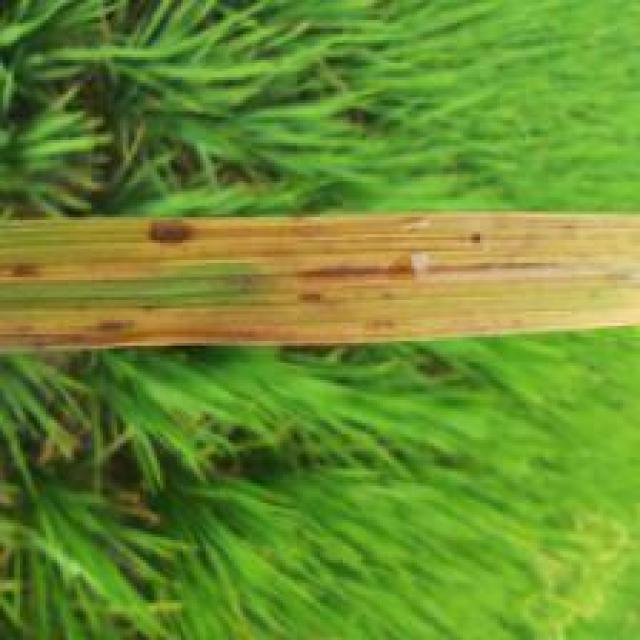Leaf_Blast: (0, 213, 639, 357)
